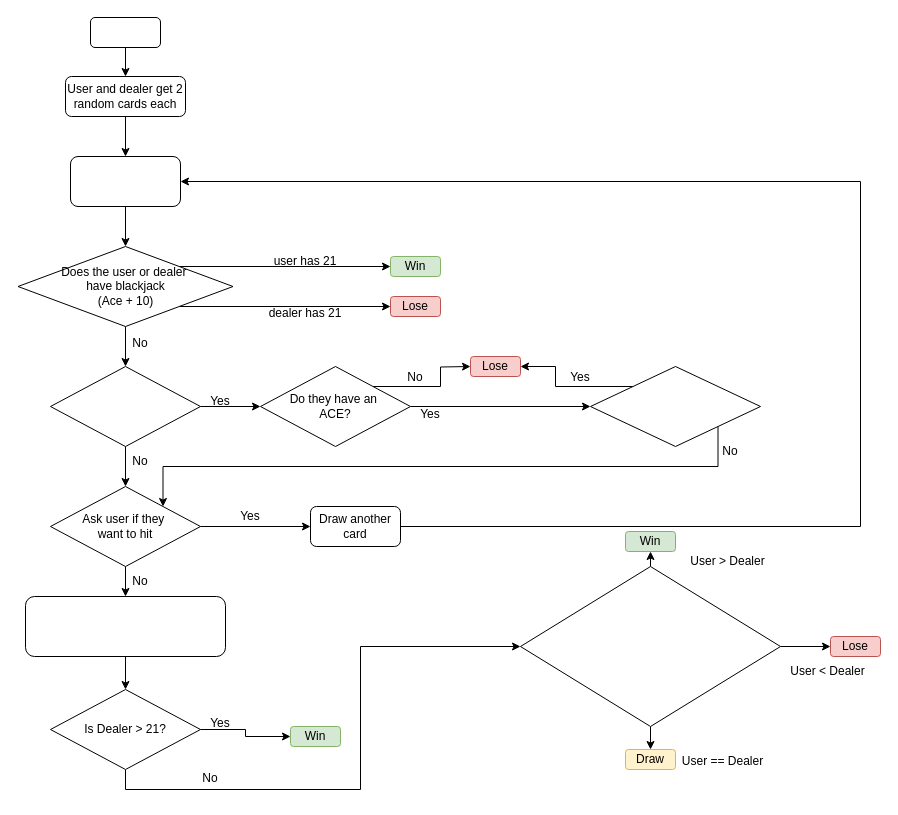
This 898x815 diagram has some shape labels left out. The shapes that lost their labels are listed below. From the top down, each one's centre as x and y in pixels, then its label:
At point 125,32: "Start".
At point 125,181: "Add up user and dealer scores".
At point 125,406: "is user > 21?".
At point 675,406: "If the ace counts as 1 are they still > 21?".
At point 125,626: "Dealer plays, if score is less than 17 keep drawing cards".
At point 650,646: "Compare user score with dealer, to see if user score is higher".
